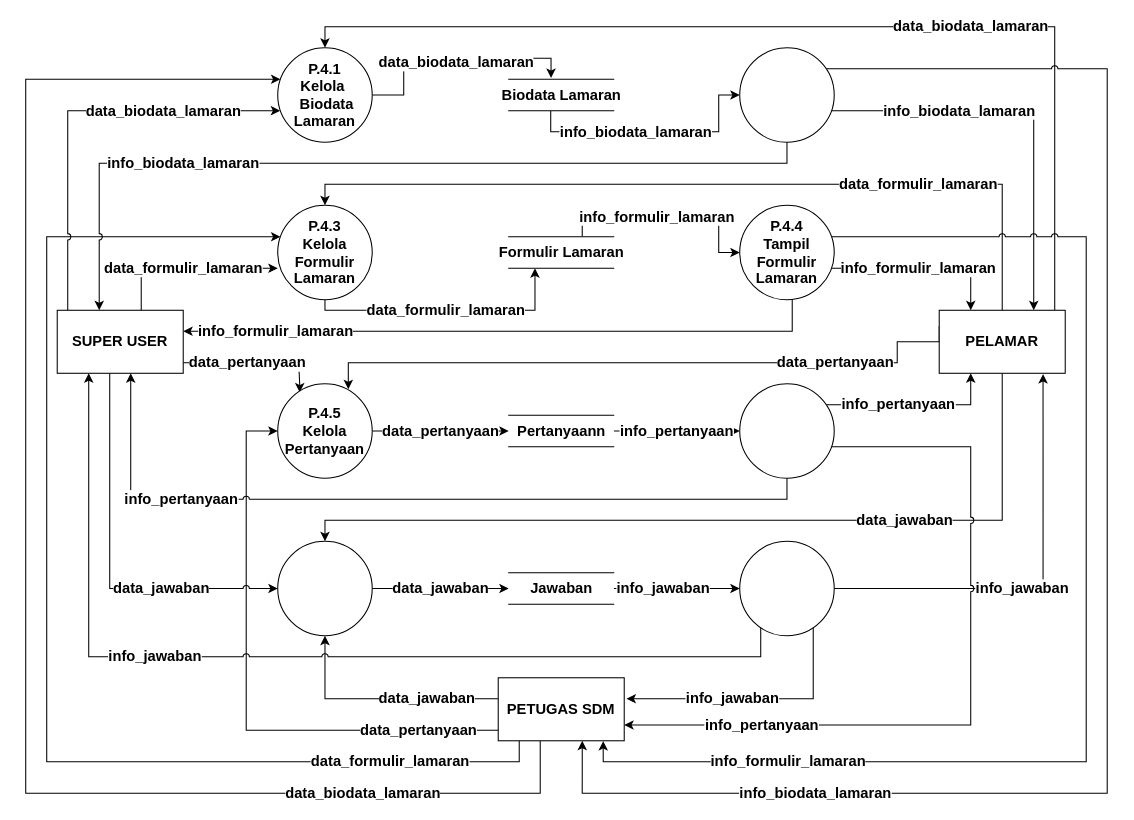
Some shapes in this 1134 by 820 pixel diagram are drawn without their labels. The shapes that lost their labels are listed below. From the top down, each one's box as (x1, y1, x2, y2) in pixels, then its label:
(739, 47, 834, 142): P.4.1 Tampil Biodata Lamaran
(739, 383, 834, 478): P.4.6 Tampil Pertanyaan
(277, 540, 372, 636): P.4.7 Kelola Jawaban
(739, 540, 834, 636): P.4.8 Tampil Jawaban
